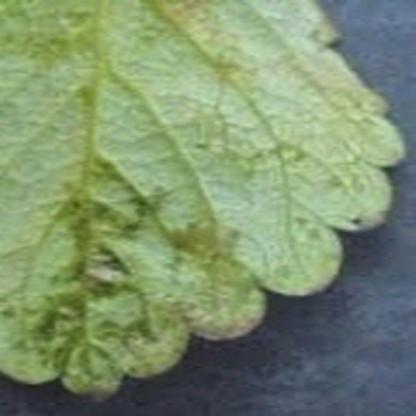Strawberry_Angular_LeafSpot: (0, 134, 282, 404)
